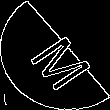M_NE: (17, 21, 93, 89)
